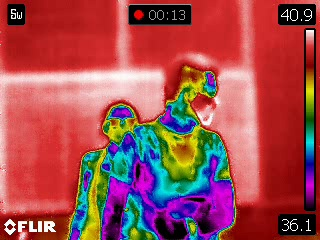human: (100, 54, 240, 240), (68, 97, 160, 240)
